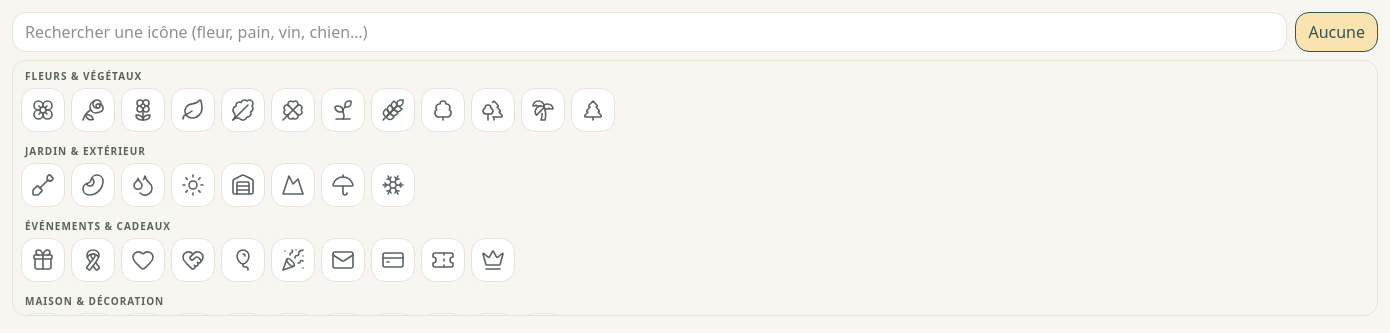
Test: Sélecteur d'icône › retrouve une icône par son libellé
Type "coiffure" into the field with placeholder "Rechercher une icône (fleur, pain, vin, chien…)" at x=650, y=32, box left=12, top=12, right=1287, bottom=52
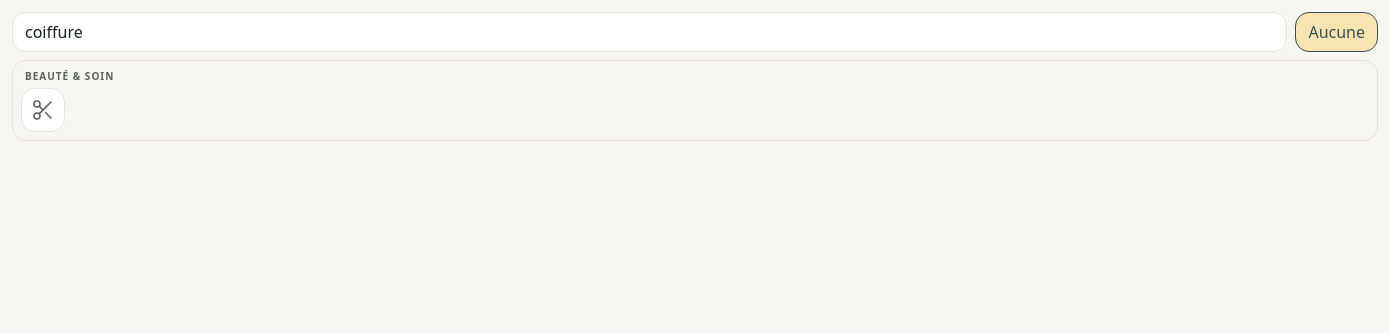
Check: the button named "Coiffure" is shown, box left=21, top=88, right=65, bottom=132
Check: the text "cadeau" is gone
